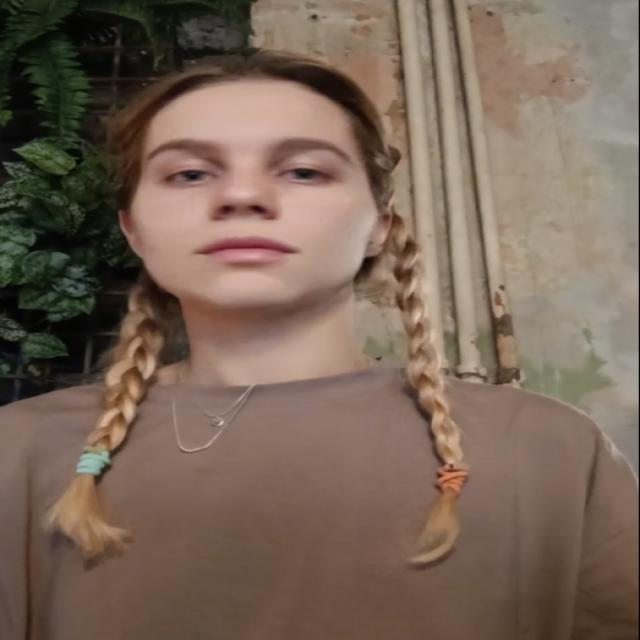earlobe: (364, 206, 394, 258), (119, 210, 143, 260)
